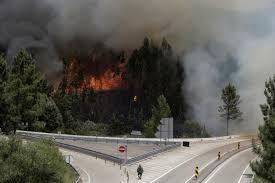fire: (53, 56, 127, 96)
yanwu: (2, 1, 272, 60), (181, 1, 275, 132)
